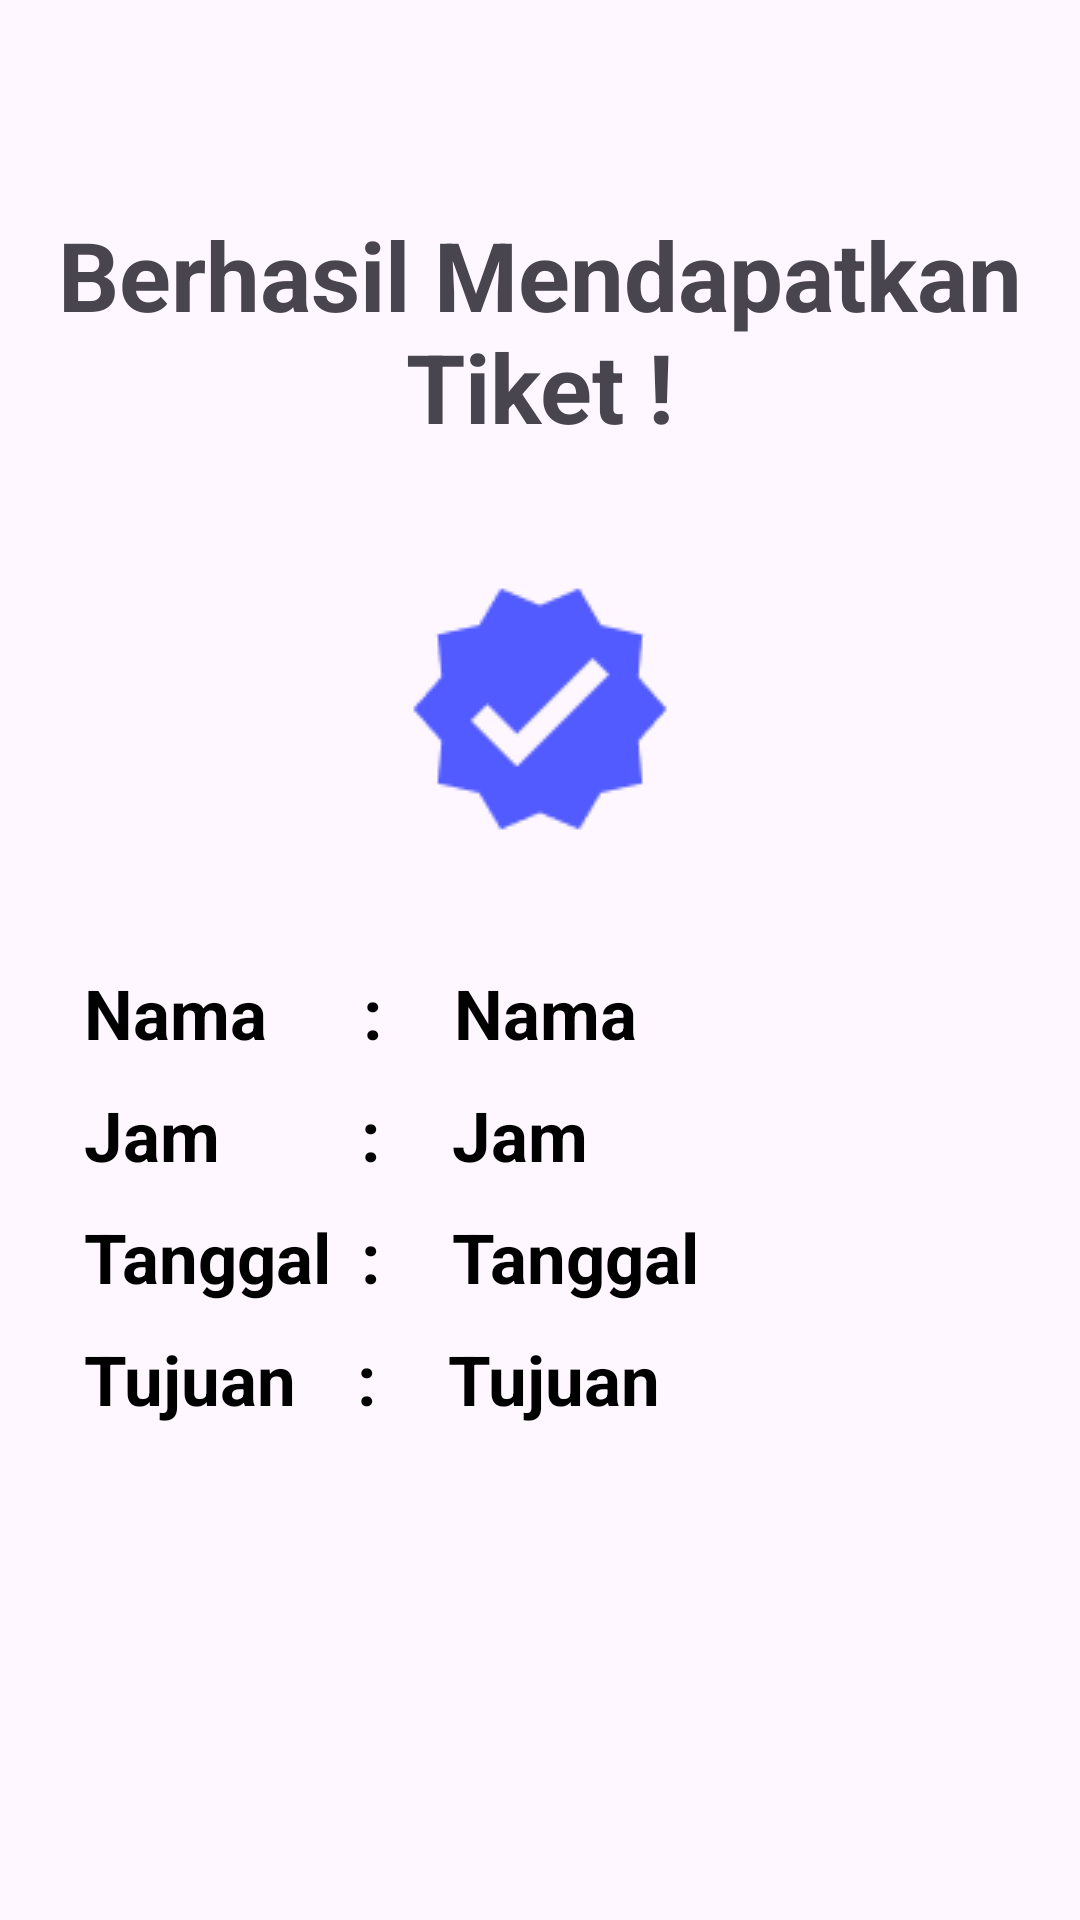

Icon click points for this 1080*1920 phone screenshot, format [x,y]:
approve: [540,709]
